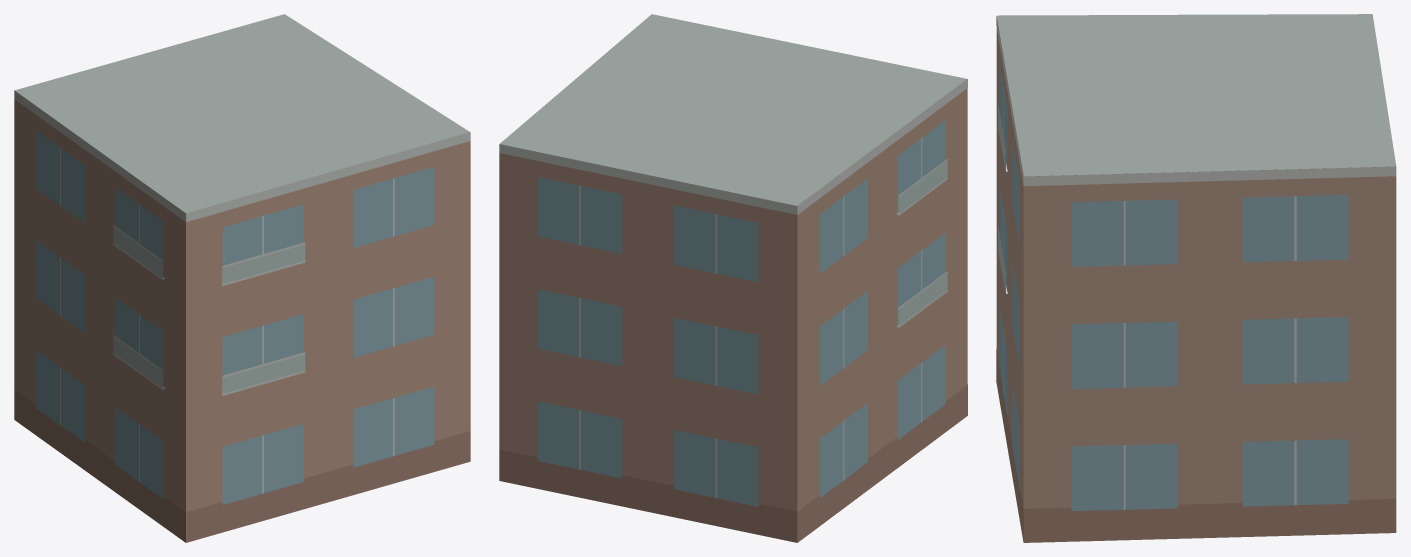
File: survey-upis-32982657.glb
The picture shows the model from 3 angles, left to right: view 1: azimuth 30°, elevation 25°; view 2: azimuth 150°, elevation 25°; view 3: azimuth 270°, elevation 25°; orthographic projection. The views are drawn at different scales.
Visible parts, largest first — view 1: survey-upis-32982657.tmp; view 2: survey-upis-32982657.tmp; view 3: survey-upis-32982657.tmp.
Part boxes in pixels (left/top/right/bottom): survey-upis-32982657.tmp: left=14, top=14, right=470, bottom=542; survey-upis-32982657.tmp: left=499, top=14, right=967, bottom=542; survey-upis-32982657.tmp: left=996, top=14, right=1396, bottom=542.
Size of the model in its own units: 8.71 by 9.15 by 9.06.
